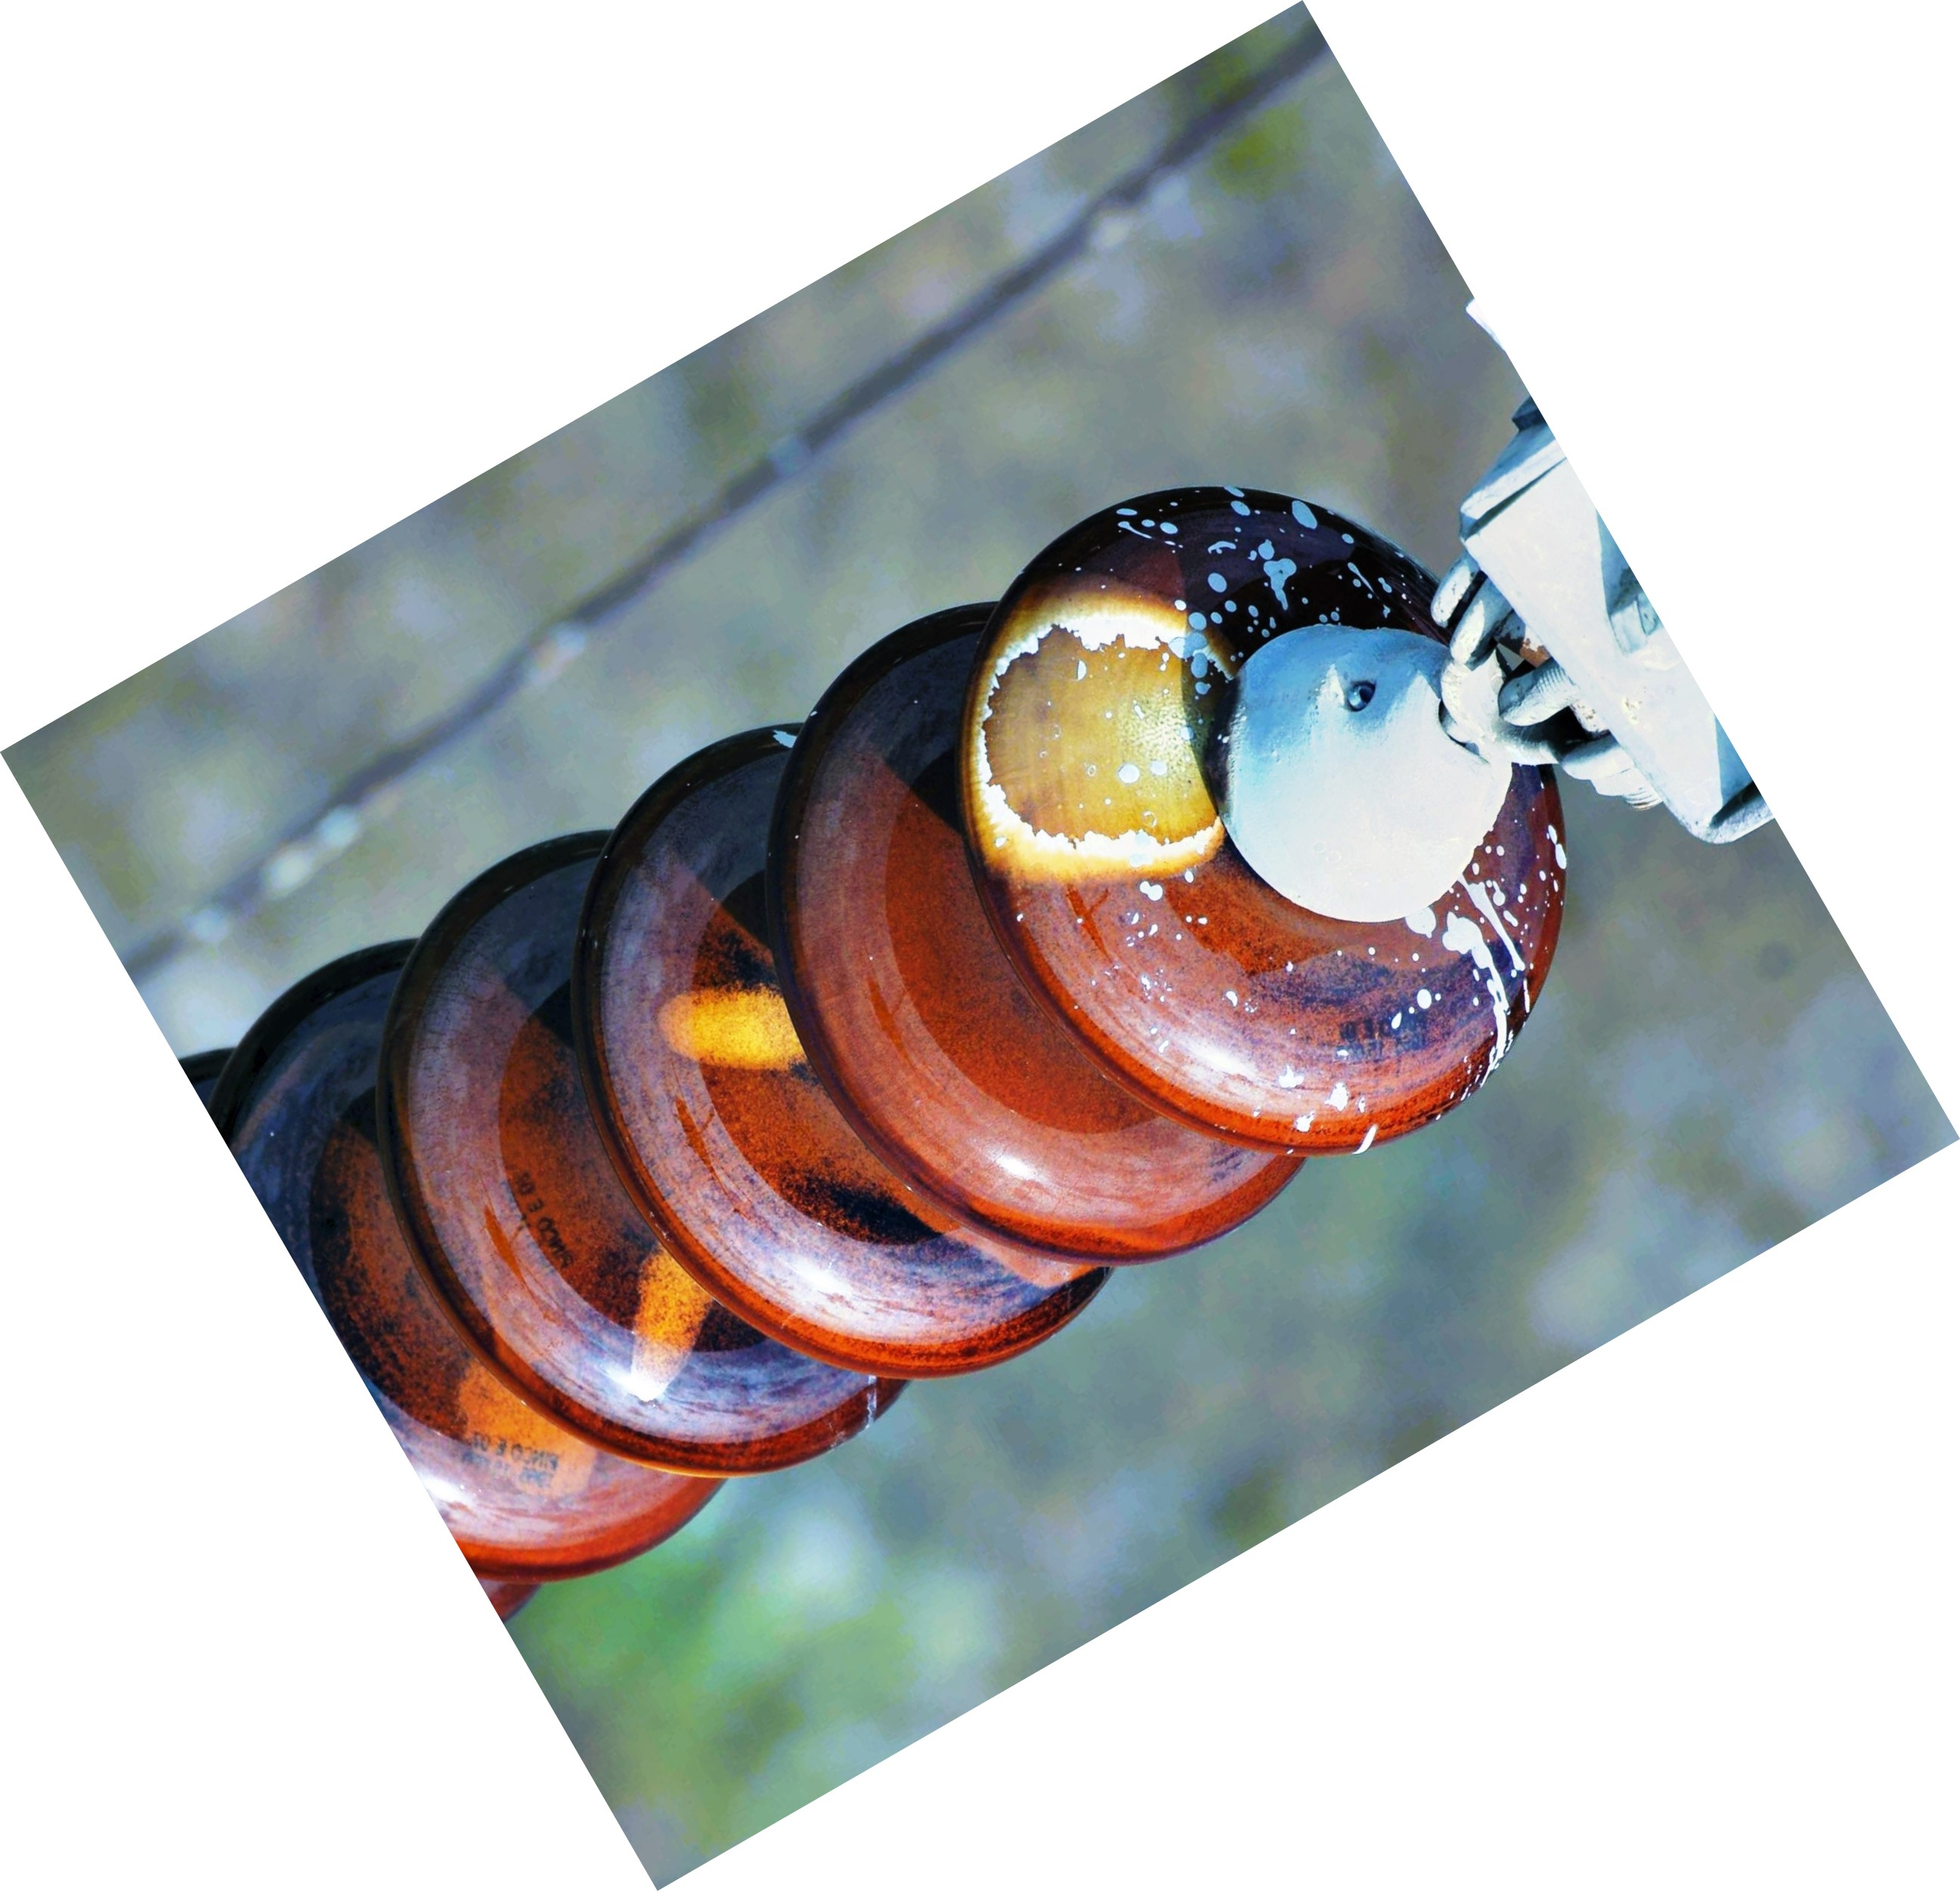Insulator flashover: (947, 430, 1612, 1170)
